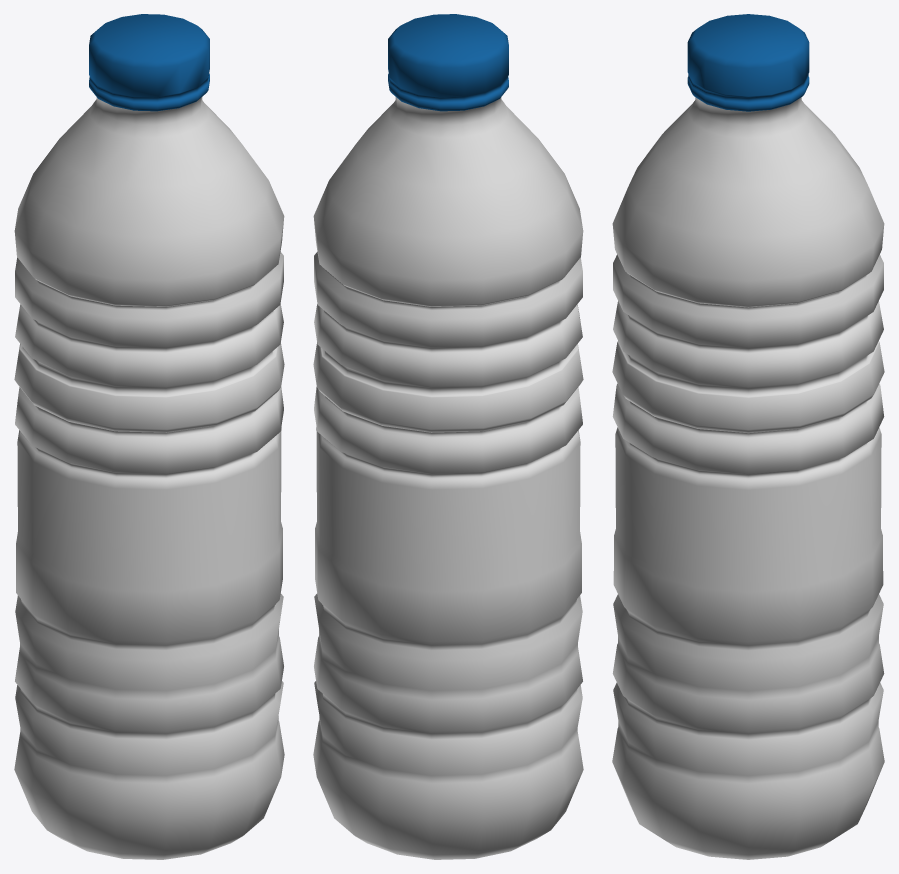
The picture shows the model from 3 angles, left to right: view 1: azimuth 30°, elevation 25°; view 2: azimuth 150°, elevation 25°; view 3: azimuth 270°, elevation 25°; orthographic projection.
Parts seen in each view (by area): view 1: Plastic bottle; view 2: Plastic bottle; view 3: Plastic bottle.
Part boxes in pixels (x1,y1,x2,y2): Plastic bottle: (14, 14, 284, 859); Plastic bottle: (313, 14, 583, 859); Plastic bottle: (612, 14, 884, 859).
Size of the model in its own units: 0.0729 by 0.23 by 0.0729.
